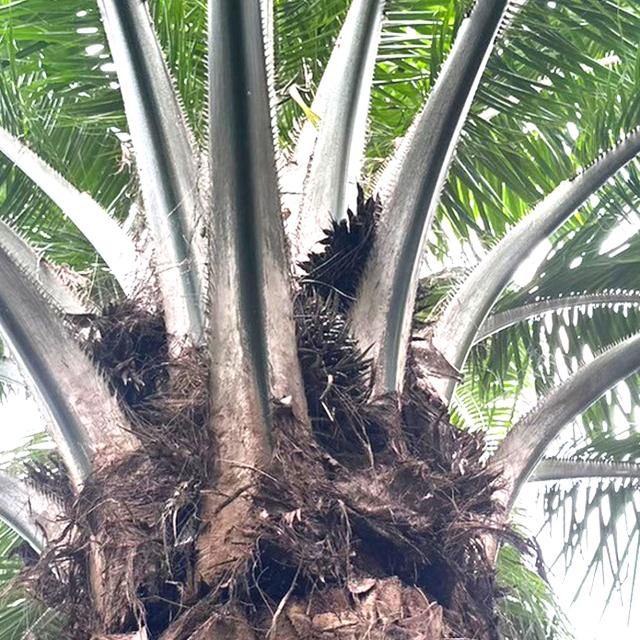unripe: (287, 273, 380, 431), (79, 298, 185, 405)
